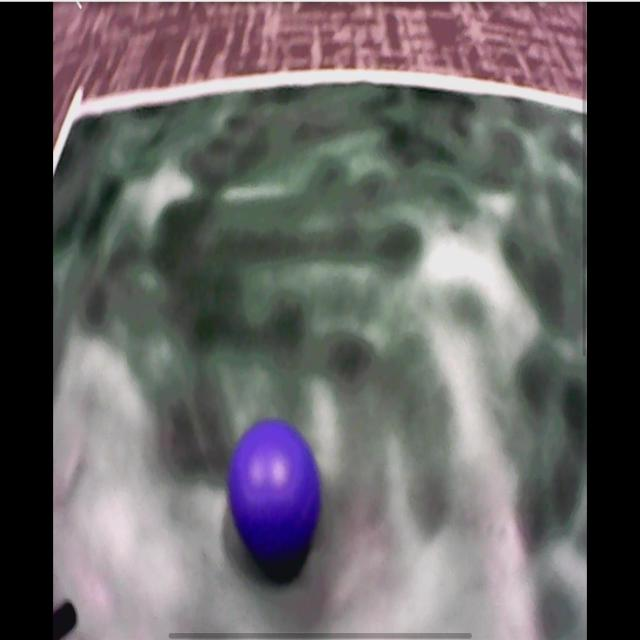ball: (231, 420, 320, 564)
